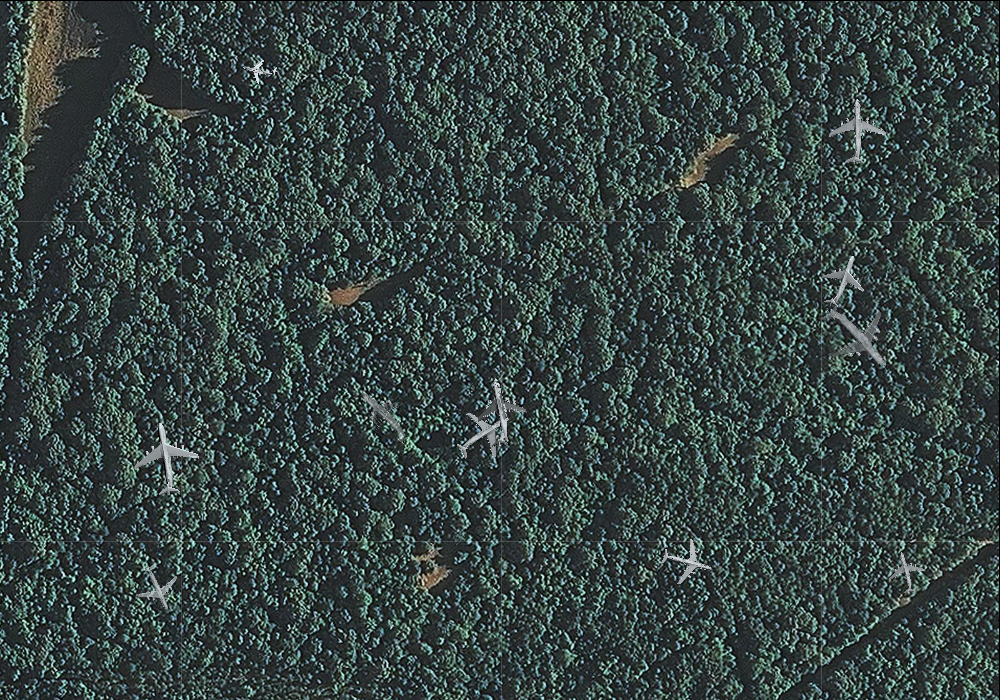plane: (802, 283, 910, 392), (340, 375, 426, 461), (123, 416, 205, 501), (443, 395, 525, 475), (462, 373, 535, 452), (809, 246, 875, 314), (824, 97, 888, 164), (126, 556, 188, 620), (655, 532, 718, 593), (881, 547, 931, 598), (239, 50, 279, 88)
